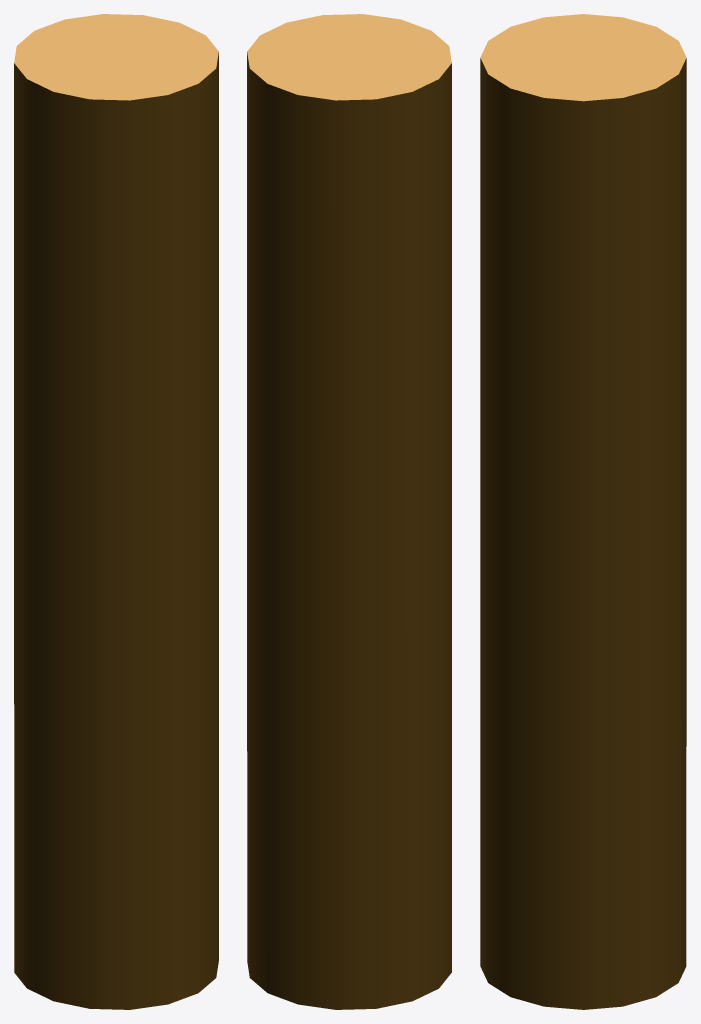
File: Wood.fbx
3 renders of one model, left to right at view 1: azimuth 30°, elevation 25°; view 2: azimuth 150°, elevation 25°; view 3: azimuth 270°, elevation 25°, orthographic.
Visible parts, largest first — view 1: Wood_stic; view 2: Wood_stic; view 3: Wood_stic.
Part boxes in pixels (x1=…): Wood_stic: x1=14, y1=14, x2=218, y2=1009; Wood_stic: x1=247, y1=14, x2=451, y2=1009; Wood_stic: x1=480, y1=14, x2=686, y2=1009.
Bounding box in the file's own units: 13.7 × 13.69 × 66.51.
